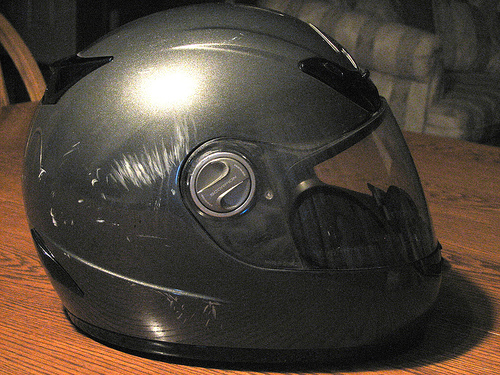helmet: (28, 34, 443, 339)
